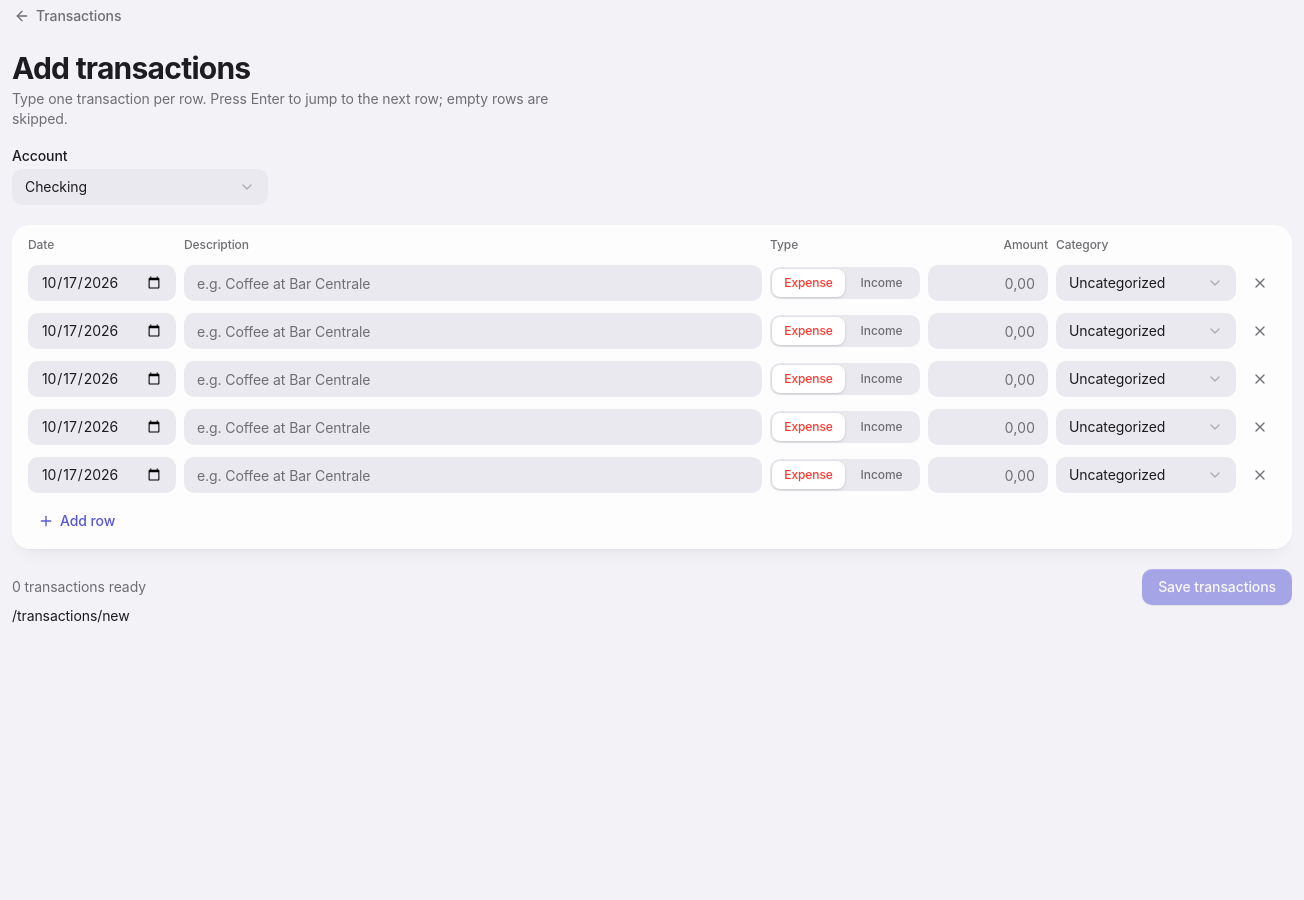
Test: Bulk add › blocks saving while a row is half filled
Type "Rent" into the 1st field with placeholder "e.g. Coffee at Bar Centrale" at (473, 283), box [184, 265, 762, 301]
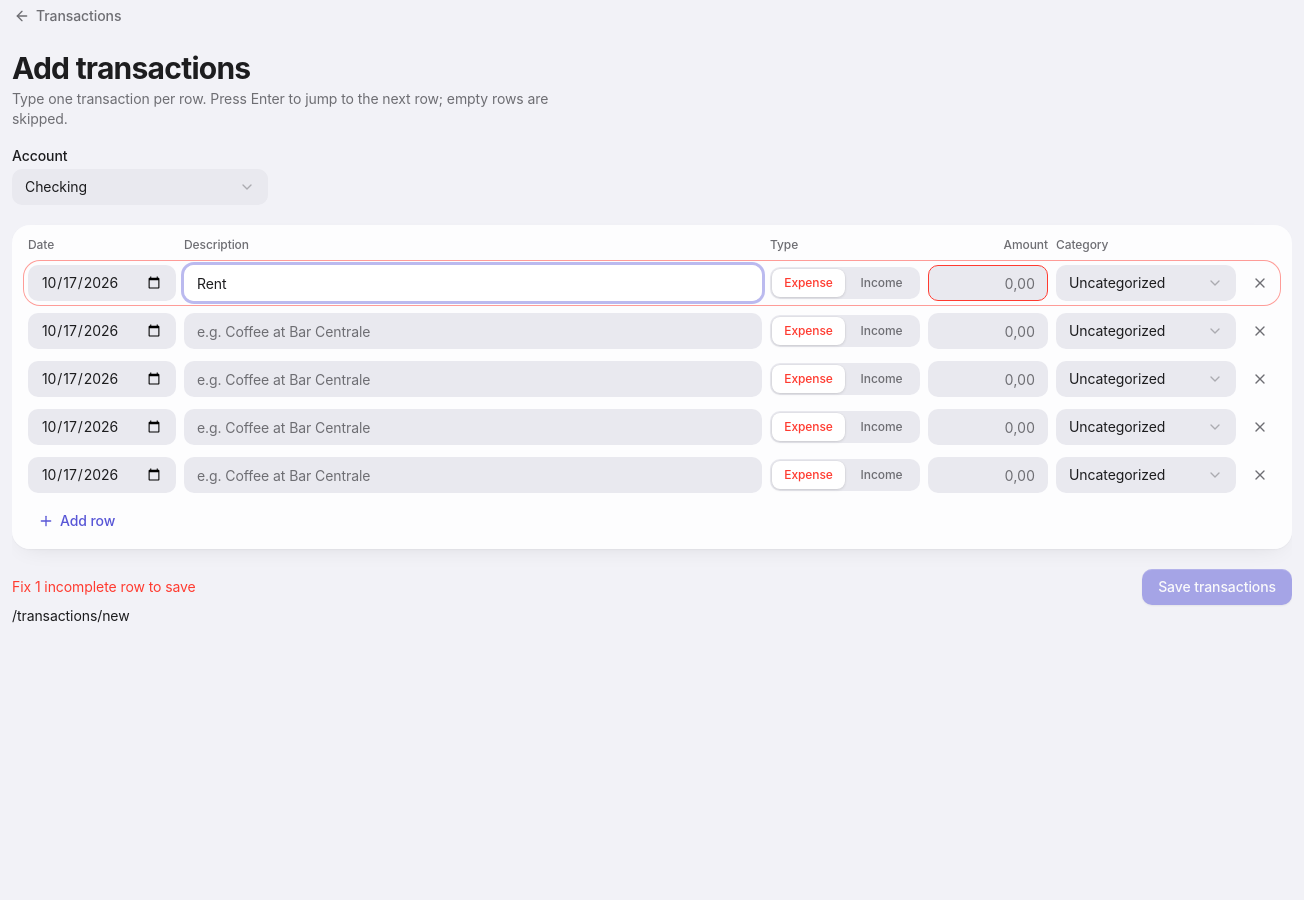
Type "900" into the field named "Row 1: Amount" at (988, 283), box [928, 265, 1048, 301]
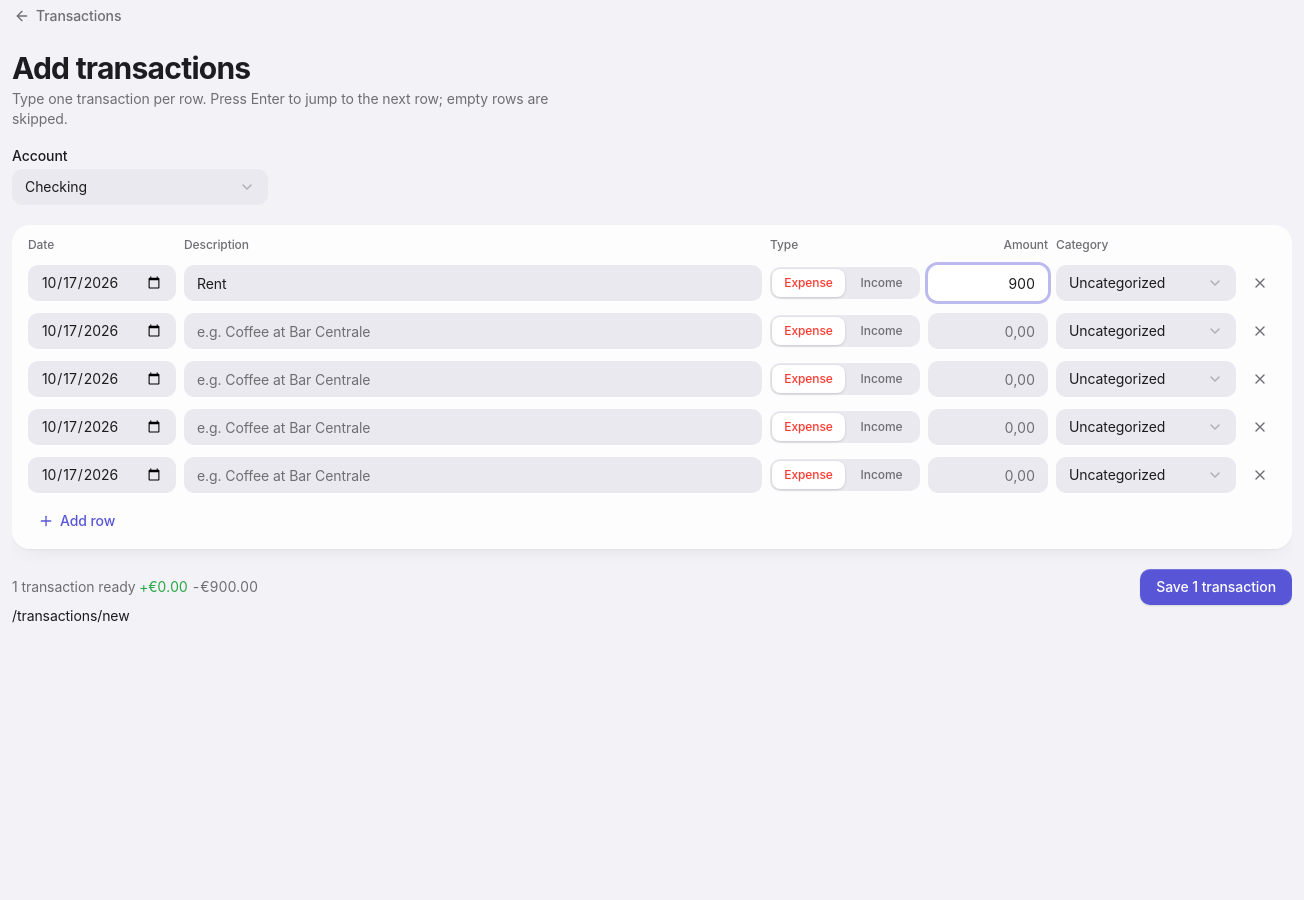
Type "Forgot the amount" into the field named "Row 2: Description" at (473, 331), box [184, 313, 762, 349]
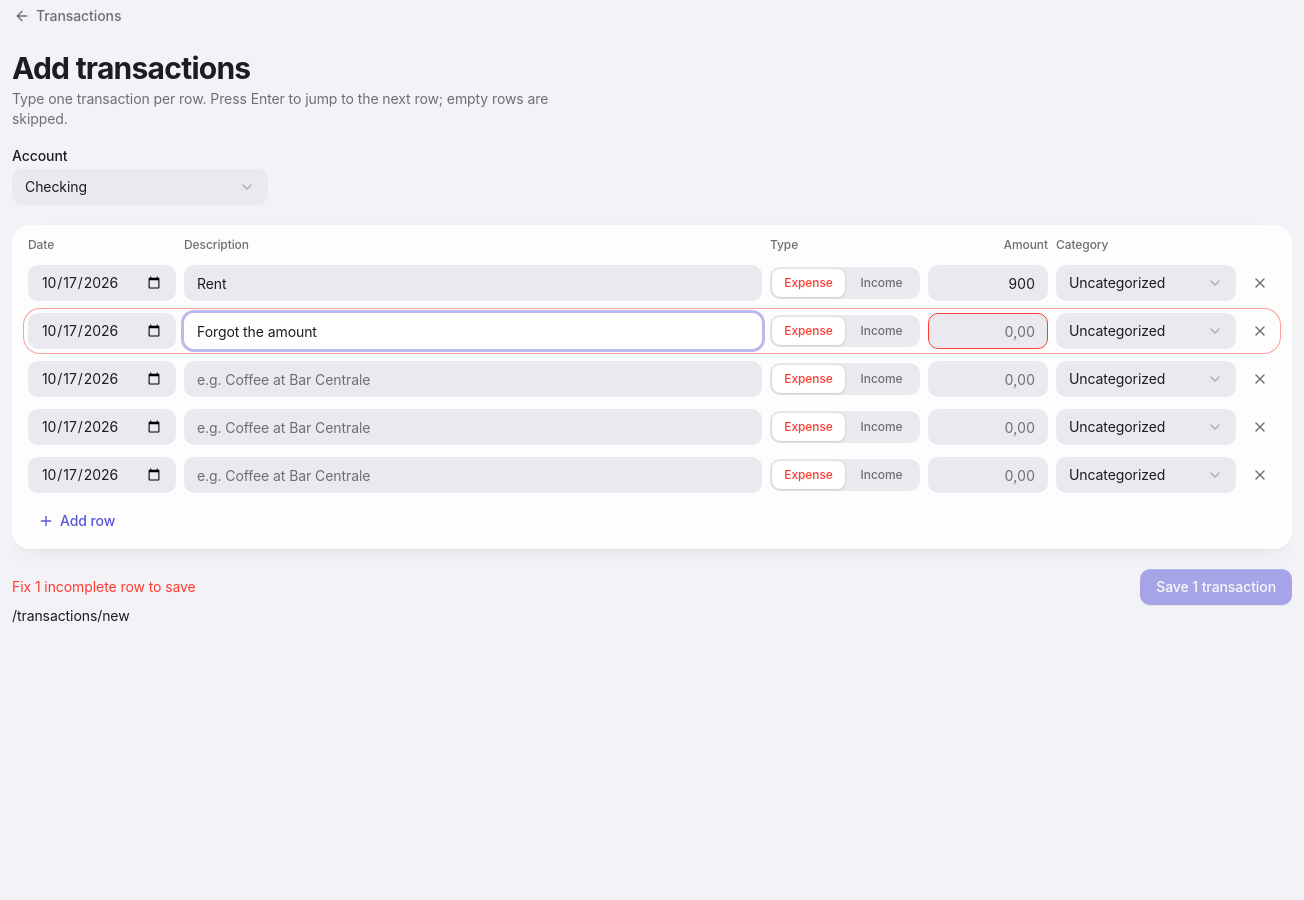
Now the text "Fix 1 incomplete row to save" is shown, box [12, 578, 196, 595]
Now the button "Save 1 transaction" is disabled, box [1140, 569, 1292, 605]
Click the button named "Remove row 2" at (1260, 331), box [1244, 315, 1276, 347]
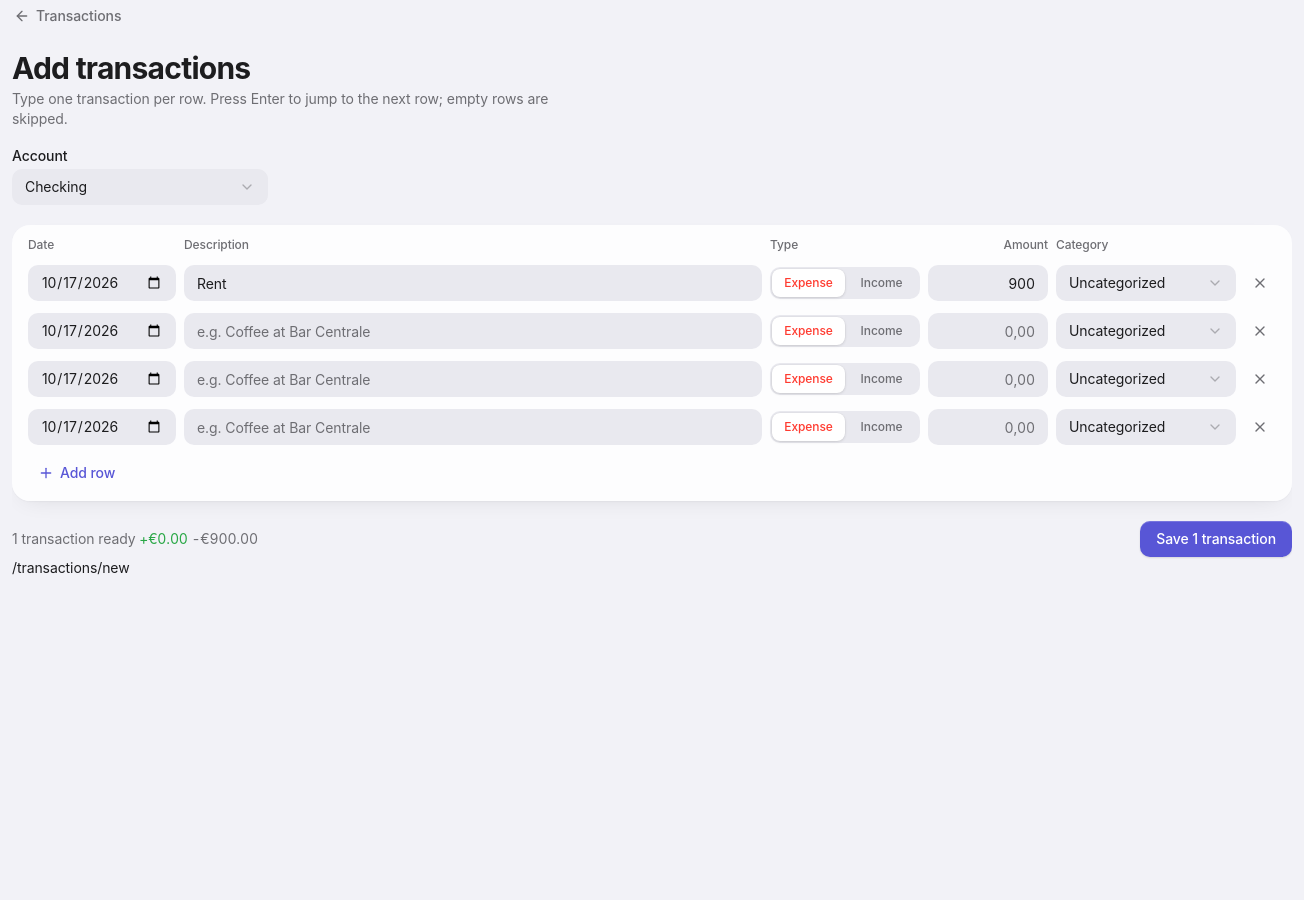
Now the button "Save 1 transaction" is enabled, box [1140, 521, 1292, 557]
